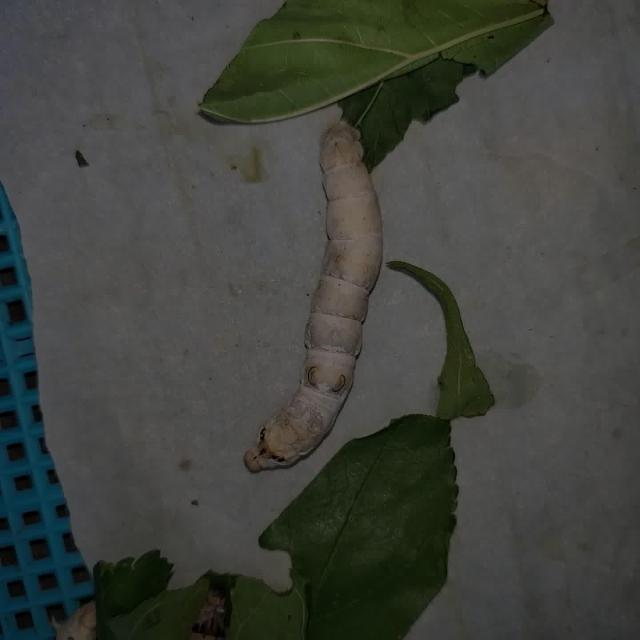Grasserie: (234, 67, 432, 507)
